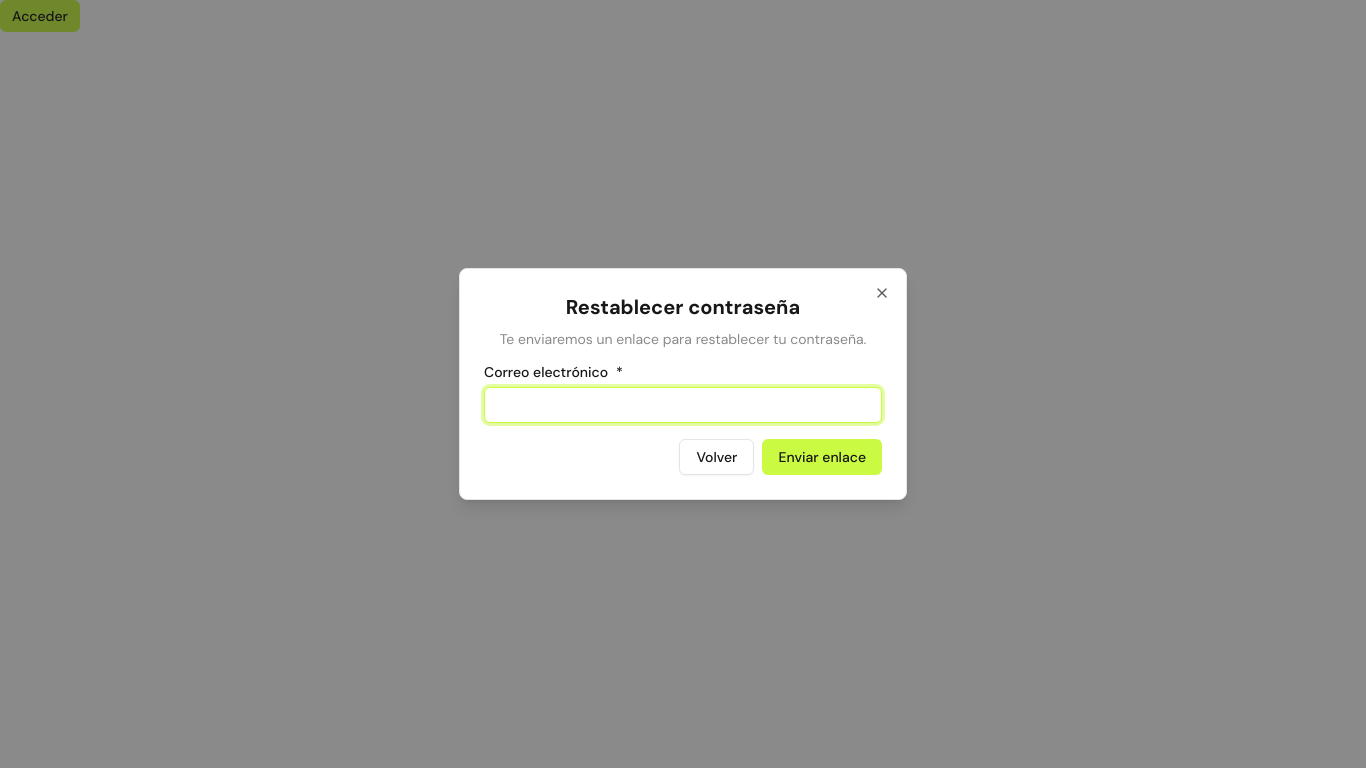
recuperación de contraseña › muestra un error de validación sin enviar una solicitud inválida
Type "correo-invalido" into the field labelled "Correo electrónico *".
click(683, 405); type("correo-invalido")  # box [484,387,882,423]
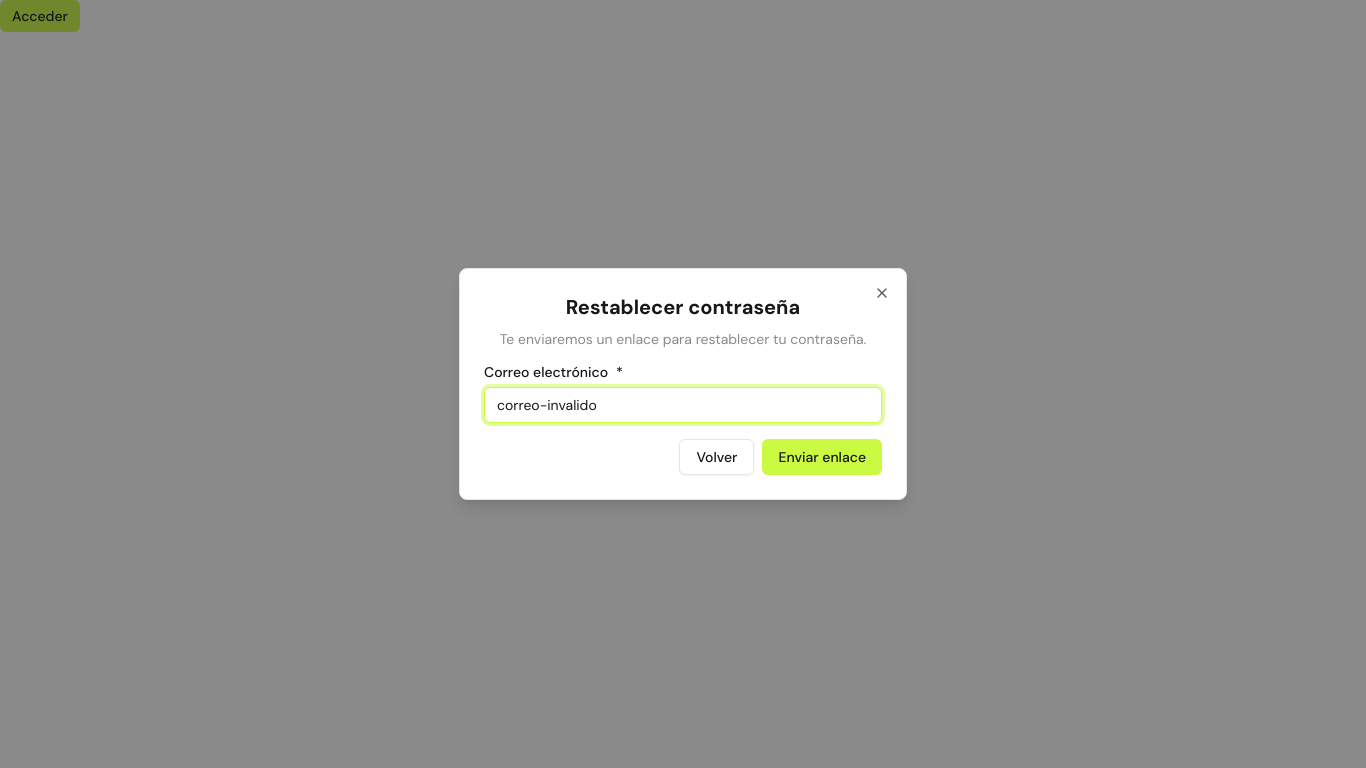
Click the button "Enviar enlace".
click(822, 457)  # box [762,439,882,475]
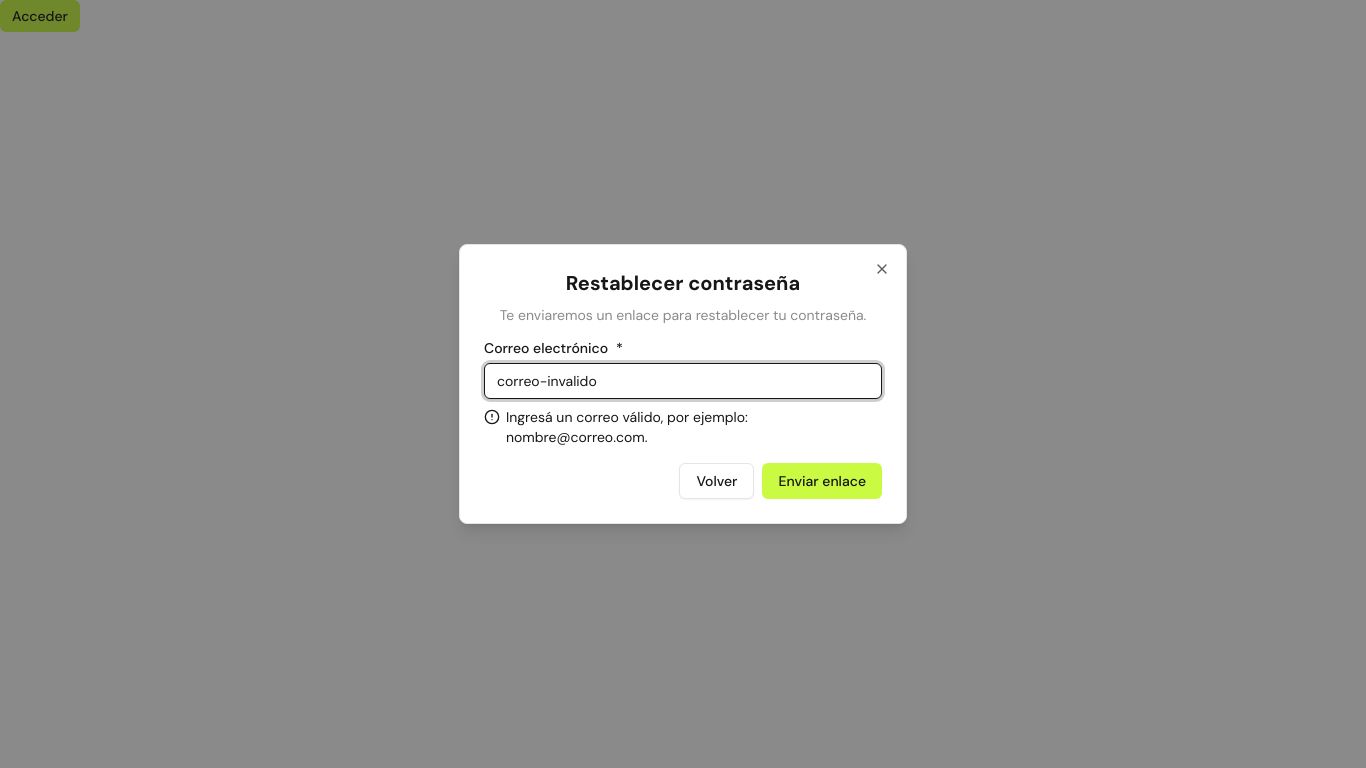
Expected: the text "Ingresá un correo válido, por ejemplo: nombre@correo.com." is shown, [506,408,748,446]
